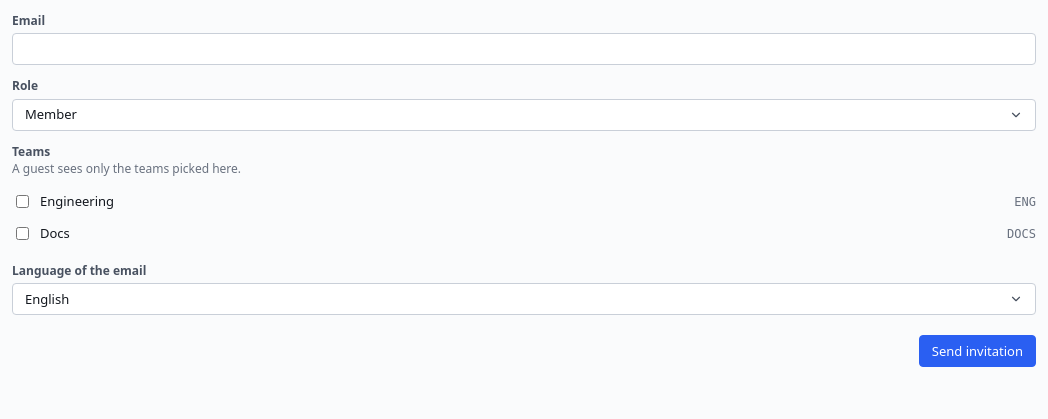
Test: InvitePanel › rejects an address that is not an email without calling the server
Type "not-an-email" into the field labelled "Email".
click(524, 49); type("not-an-email")  # box [12,33,1036,65]
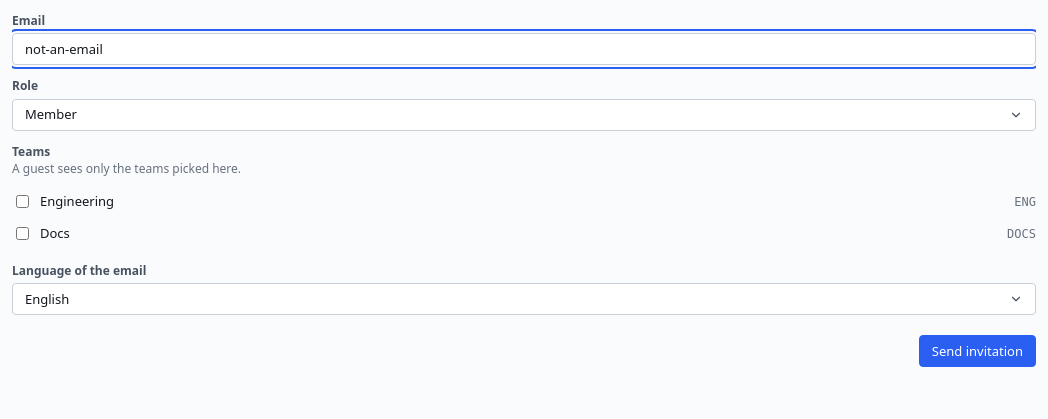
Click the button "Send invitation".
click(977, 351)  # box [919,335,1036,367]
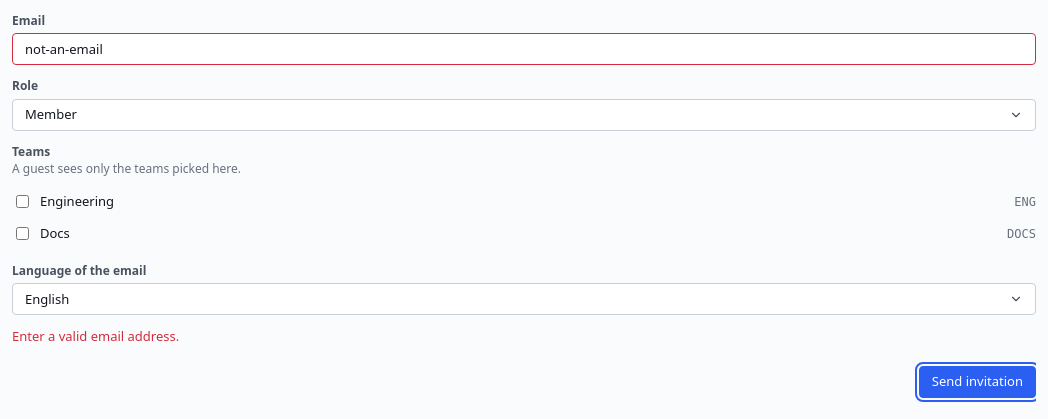
Expected: the message reads "Enter a valid email address.", [12,327,179,345]
